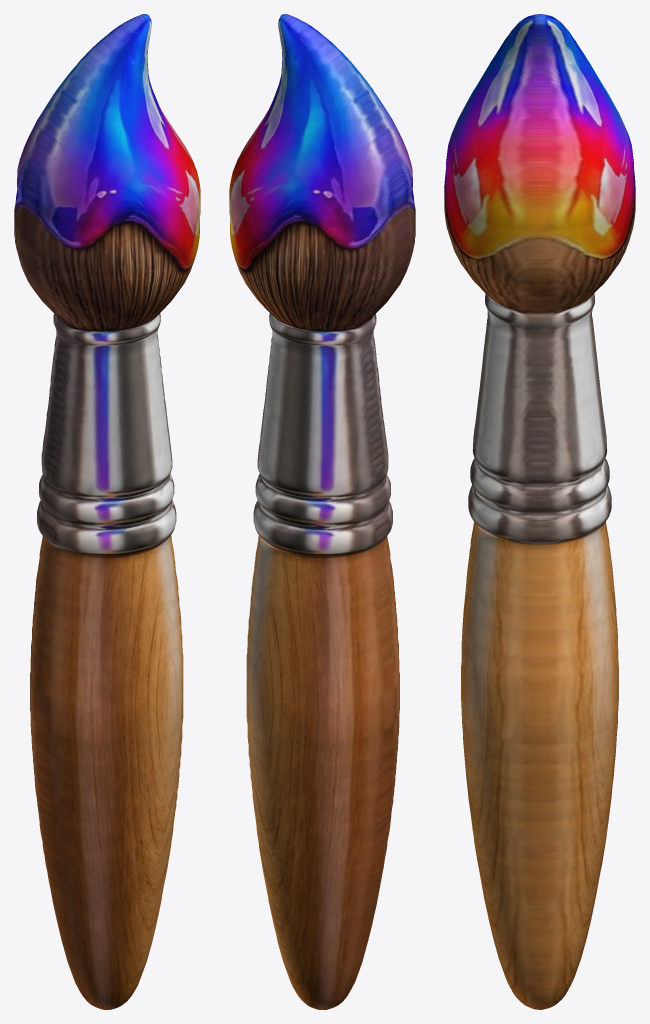
Rendered from brush.glb.
3 views of the same model, side by side, from view 1: azimuth 30°, elevation 25°; view 2: azimuth 150°, elevation 25°; view 3: azimuth 270°, elevation 25° (orthographic). The views are drawn at different scales.
Parts seen in each view (by area): view 1: Paintbrush; view 2: Paintbrush; view 3: Paintbrush.
Boxes of the visible parts, box(x1,y1,x2,y2) form: Paintbrush: box(14, 14, 200, 1009); Paintbrush: box(229, 14, 415, 1009); Paintbrush: box(444, 14, 635, 1009).
Size of the model in its own units: 0.1898 by 1.1 by 0.1891.
1 material, 1 textured.
